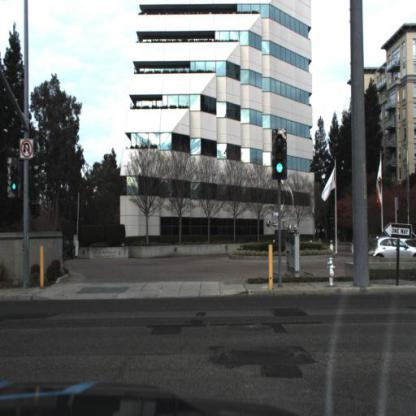car: (375, 236, 416, 265)
trafficLight-Green: (273, 131, 289, 180), (272, 135, 287, 184), (9, 170, 21, 199), (12, 164, 18, 196)
